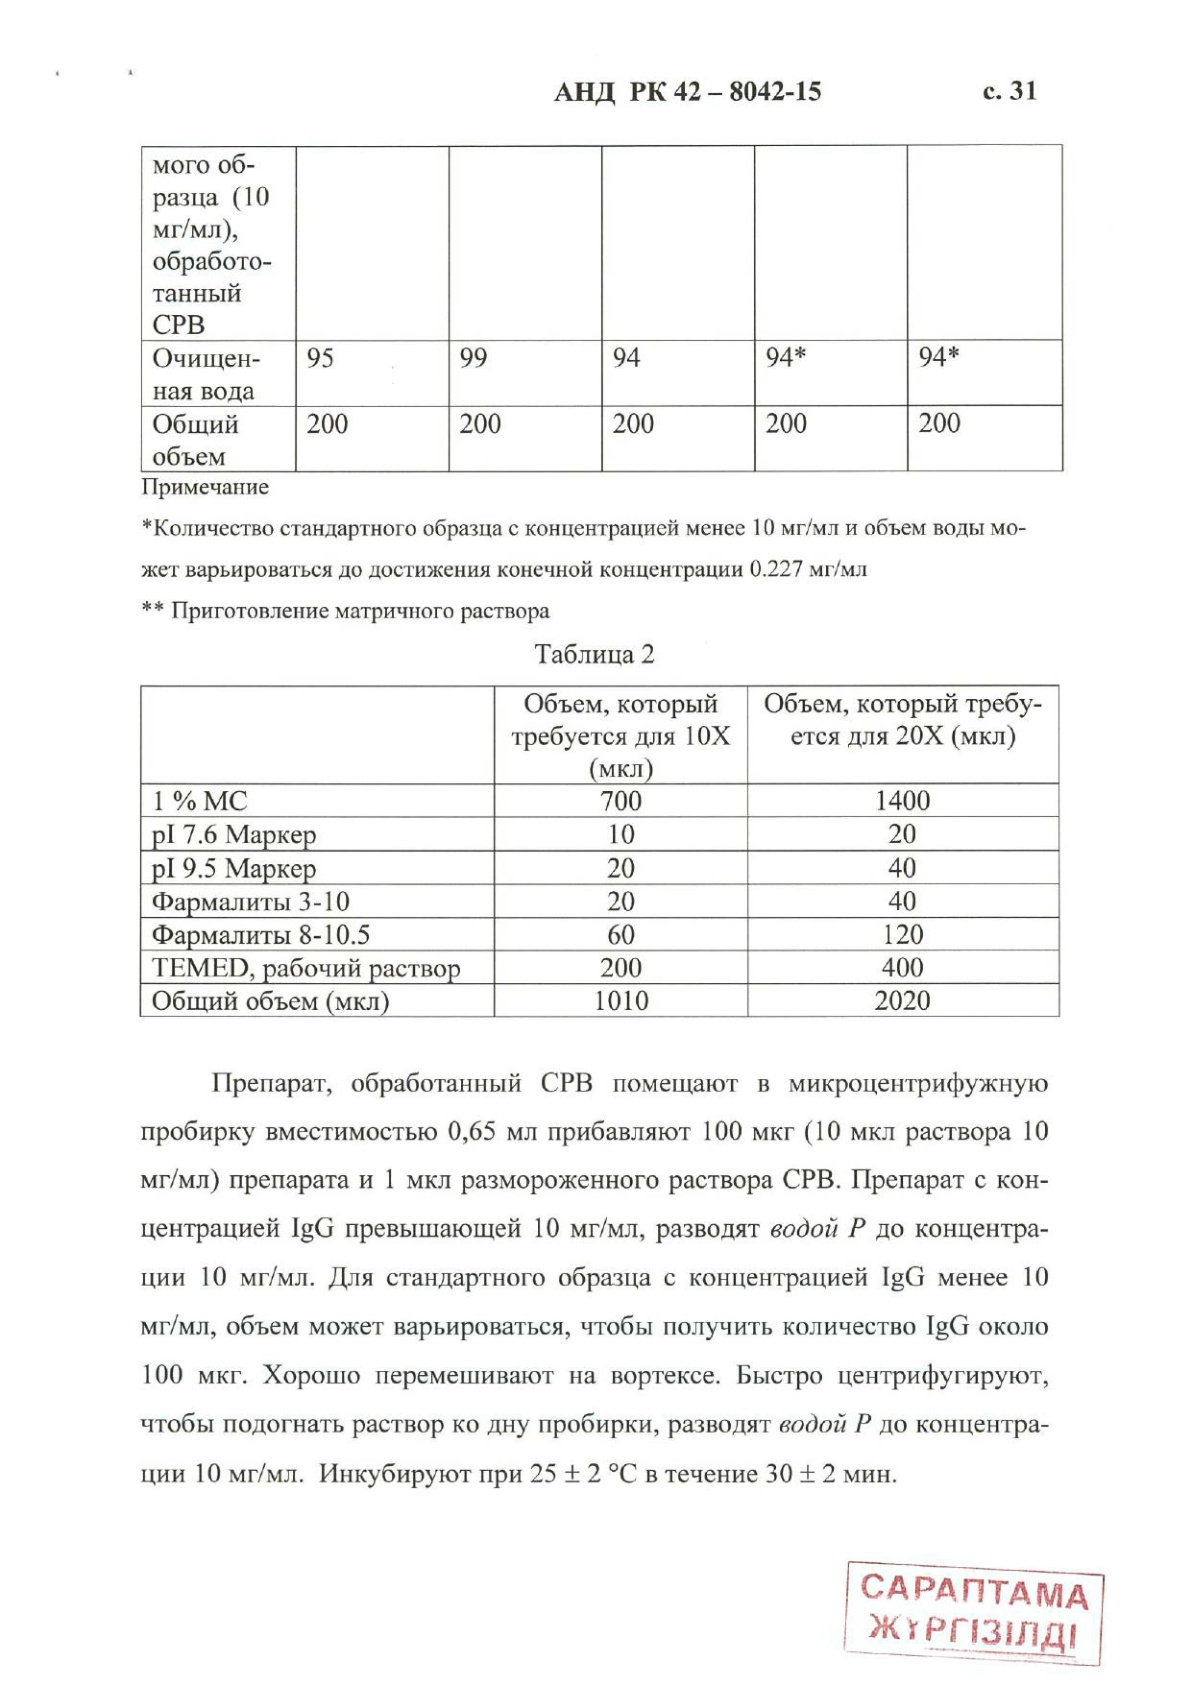full_lined: (137, 683, 1062, 1019), (139, 142, 1066, 474)
